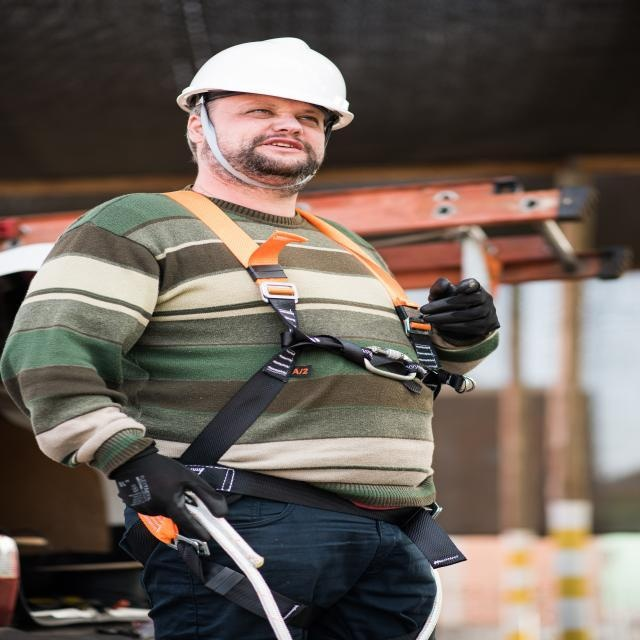Arnes_seguridad: (108, 182, 470, 640)
